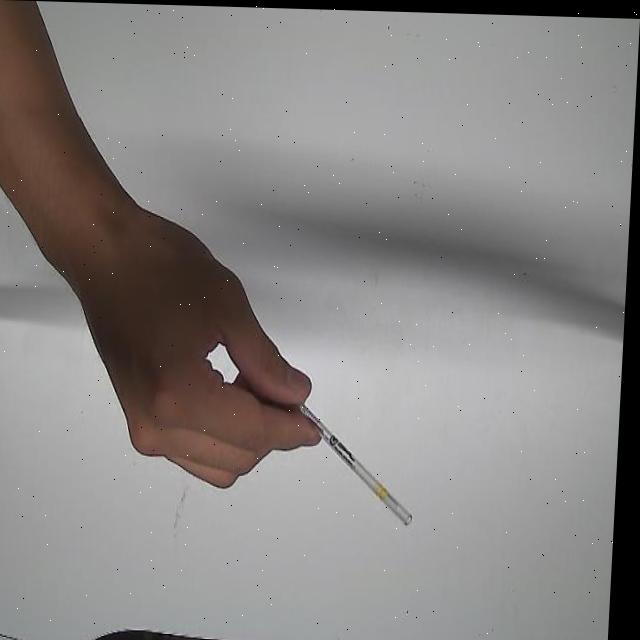Serelogical Pipet 1 mL: (251, 359, 426, 529)
